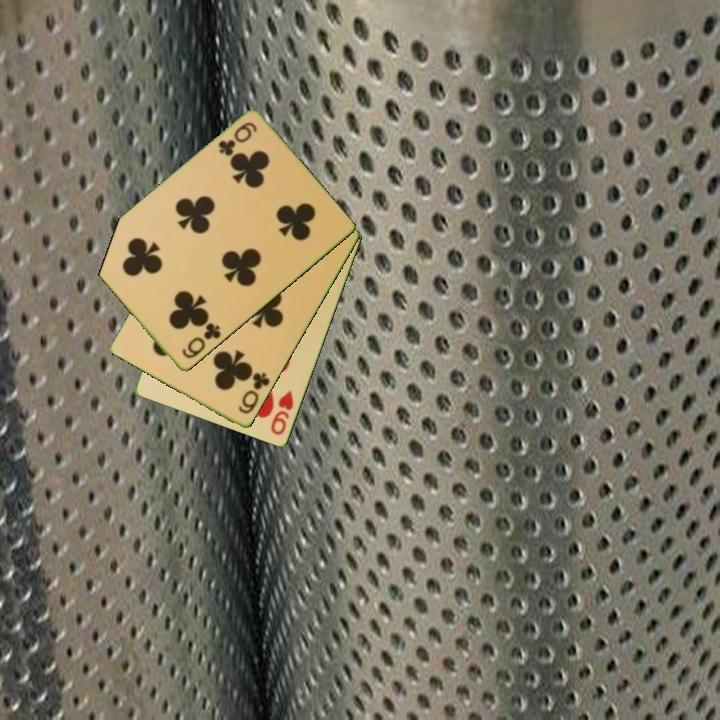6c: (178, 319, 224, 362), (214, 119, 260, 159), (235, 369, 273, 417)
9h: (267, 387, 297, 439)
